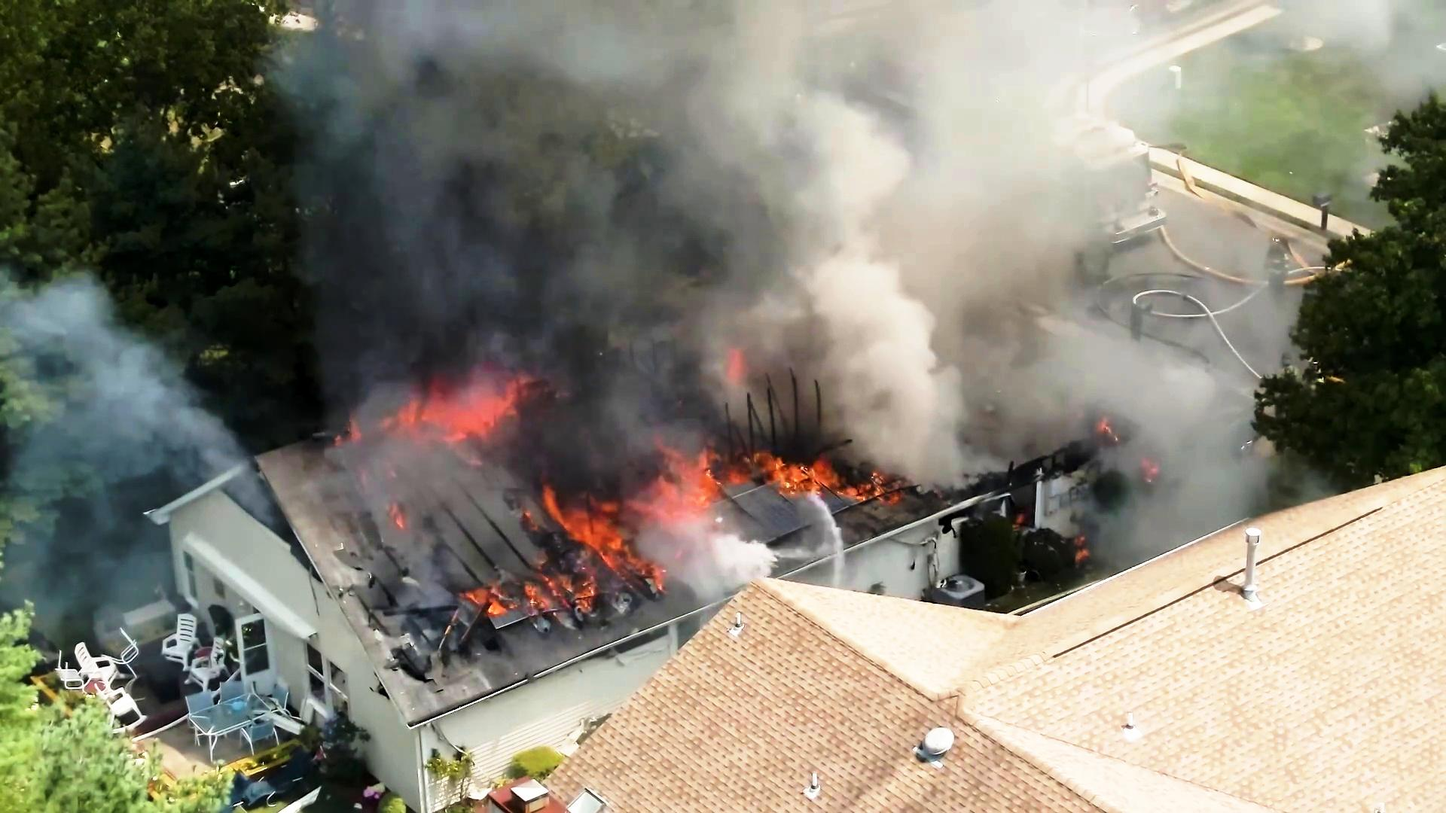fire: (554, 446, 716, 580), (402, 377, 543, 455)
smoke: (437, 0, 1067, 357)
